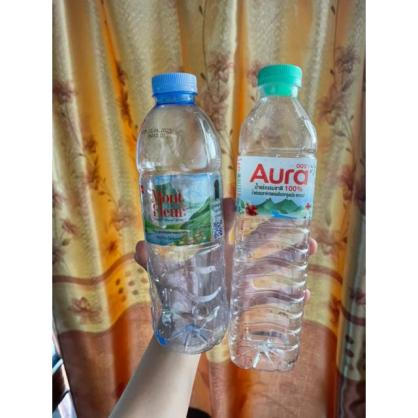bottle: (229, 64, 319, 373), (136, 71, 226, 355)
cap: (256, 66, 304, 95), (150, 74, 197, 103)
label: (138, 171, 226, 247), (237, 153, 314, 218)
